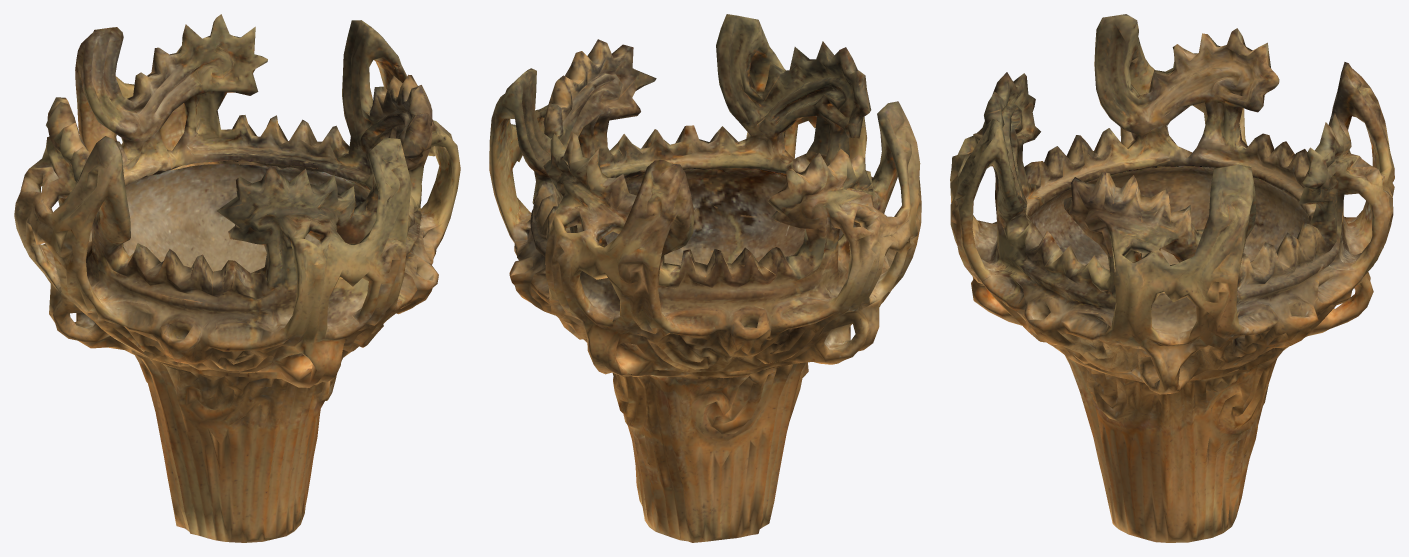
3 renders of one model, left to right at view 1: azimuth 30°, elevation 25°; view 2: azimuth 150°, elevation 25°; view 3: azimuth 270°, elevation 25°, orthographic. The views are drawn at different scales.
Parts seen in each view (by area): view 1: UD0411_low; view 2: UD0411_low; view 3: UD0411_low.
Boxes of the visible parts, x1,y1,x2,y2 form: UD0411_low: [14, 14, 460, 542]; UD0411_low: [489, 14, 921, 542]; UD0411_low: [950, 14, 1394, 542].
Bounding box in the file's own units: 309 × 322 × 303.
1 material, 1 textured.
